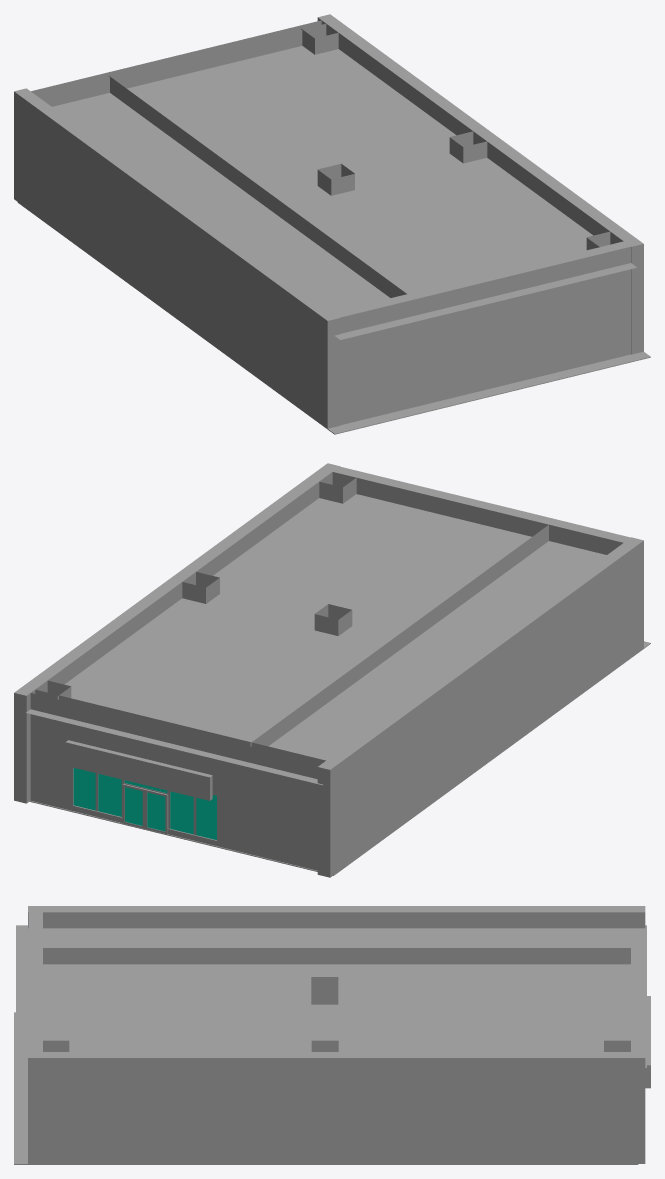
Rendered from escenario.fbx.
3 renders of one model, top to bottom at view 1: azimuth 30°, elevation 25°; view 2: azimuth 150°, elevation 25°; view 3: azimuth 270°, elevation 25°, orthographic.
Parts seen in each view (by area): view 1: techo, pared2, pared3, pared, pared5, muro, suelo, columnas, columna2, columna1; view 2: techo, pared2, pared5, pared, pared3, muro, letrero_bancolombia, vidrios1, vidrios2, suelo, columnas, columna2 (+4 smaller); view 3: pared, techo, pared2, muro, pared3, suelo, columnas, letrero_bancolombia.
Part boxes in pixels (x1=…): techo: x1=52, y1=46, x2=636, y2=339; pared2: x1=14, y1=88, x2=340, y2=428; pared3: x1=333, y1=241, x2=630, y2=425; pared: x1=317, y1=14, x2=643, y2=354; pared5: x1=31, y1=20, x2=326, y2=106; muro: x1=108, y1=76, x2=406, y2=297; suelo: x1=17, y1=202, x2=650, y2=434; columnas: x1=317, y1=163, x2=354, y2=195; columna2: x1=449, y1=131, x2=487, y2=163; columna1: x1=301, y1=28, x2=338, y2=54; techo: x1=26, y1=494, x2=606, y2=785; pared2: x1=317, y1=537, x2=643, y2=877; pared5: x1=30, y1=689, x2=325, y2=870; pared: x1=14, y1=463, x2=339, y2=803; pared3: x1=332, y1=466, x2=630, y2=554; muro: x1=250, y1=525, x2=548, y2=746; letrero_bancolombia: x1=65, y1=740, x2=212, y2=800; vidrios1: x1=73, y1=768, x2=121, y2=816; vidrios2: x1=170, y1=791, x2=216, y2=839; suelo: x1=29, y1=641, x2=650, y2=875; columnas: x1=314, y1=604, x2=352, y2=635; columna2: x1=182, y1=572, x2=219, y2=603; pared: x1=28, y1=1052, x2=645, y2=1163; techo: x1=16, y1=925, x2=646, y2=1067; pared2: x1=28, y1=906, x2=645, y2=928; muro: x1=43, y1=948, x2=630, y2=964; pared3: x1=28, y1=912, x2=42, y2=1051; suelo: x1=14, y1=1012, x2=638, y2=1164; columnas: x1=311, y1=977, x2=338, y2=1004; letrero_bancolombia: x1=645, y1=996, x2=650, y2=1088.
Size of the model in its own units: 25.19 by 8.56 by 44.66.
